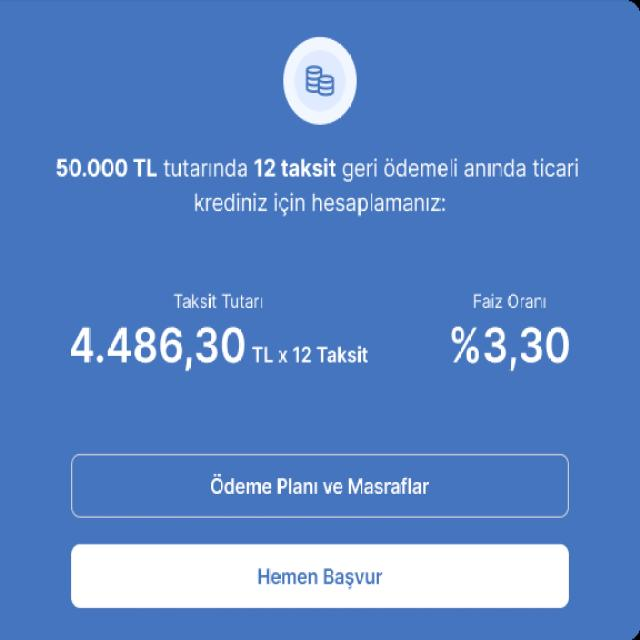QLabel: (69, 325, 248, 366), (194, 190, 448, 217), (342, 157, 580, 182), (451, 324, 570, 368), (208, 475, 428, 496), (55, 152, 160, 182), (253, 566, 388, 588), (250, 343, 372, 366), (164, 157, 252, 179), (254, 156, 338, 179), (461, 292, 554, 311), (170, 292, 266, 310)
VBtn: (68, 452, 572, 521), (68, 542, 572, 611)
VCard: (0, 1, 640, 640)
VIcon: (282, 36, 358, 126)
